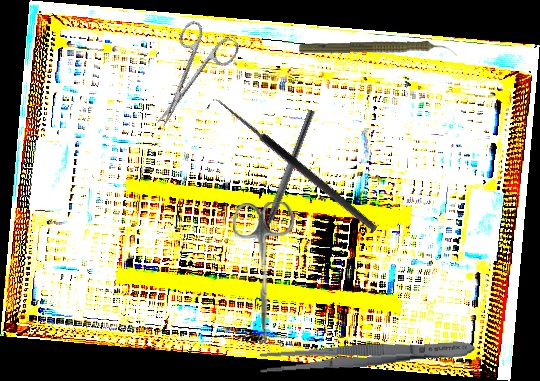Chopper: (250, 105, 316, 246)
Dressing Forceps: (257, 334, 477, 377)
Handpiece: (298, 38, 459, 60)
Hook Surgical: (205, 94, 379, 241)
Iris Scissors: (134, 14, 242, 140), (232, 201, 298, 342)
